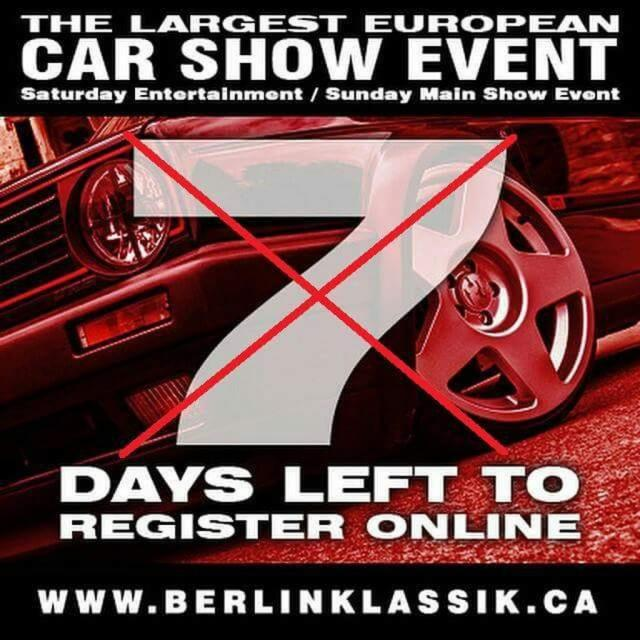other: (0, 113, 639, 456)
